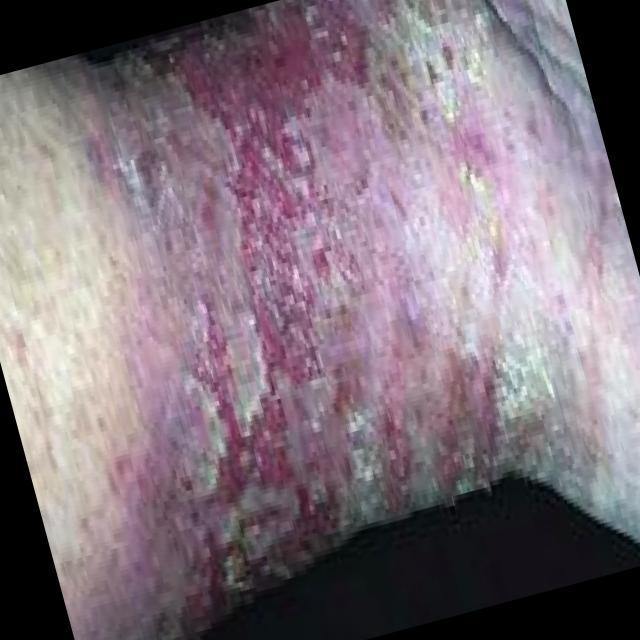Eczema: (119, 0, 589, 565)
